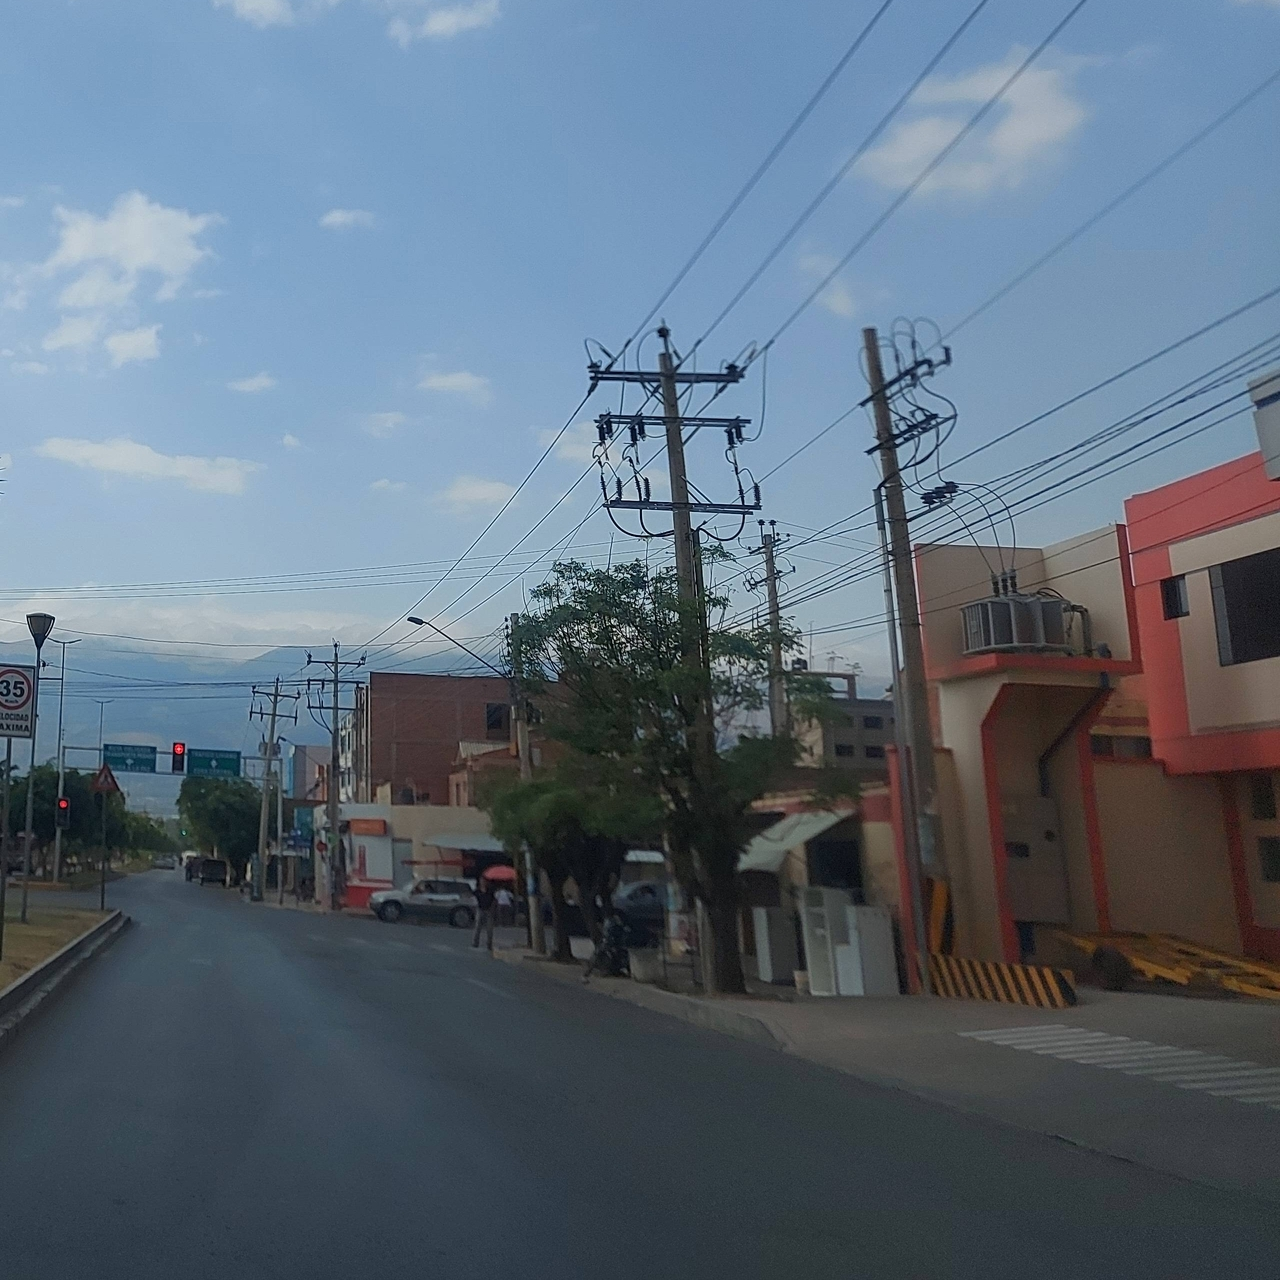paso-peatonal: (90, 764, 119, 794)
